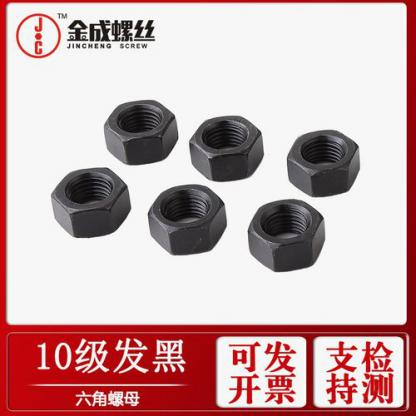FOD: (246, 197, 325, 274), (148, 183, 227, 257), (50, 166, 131, 238), (187, 114, 266, 181), (102, 96, 178, 165), (285, 128, 362, 196)
